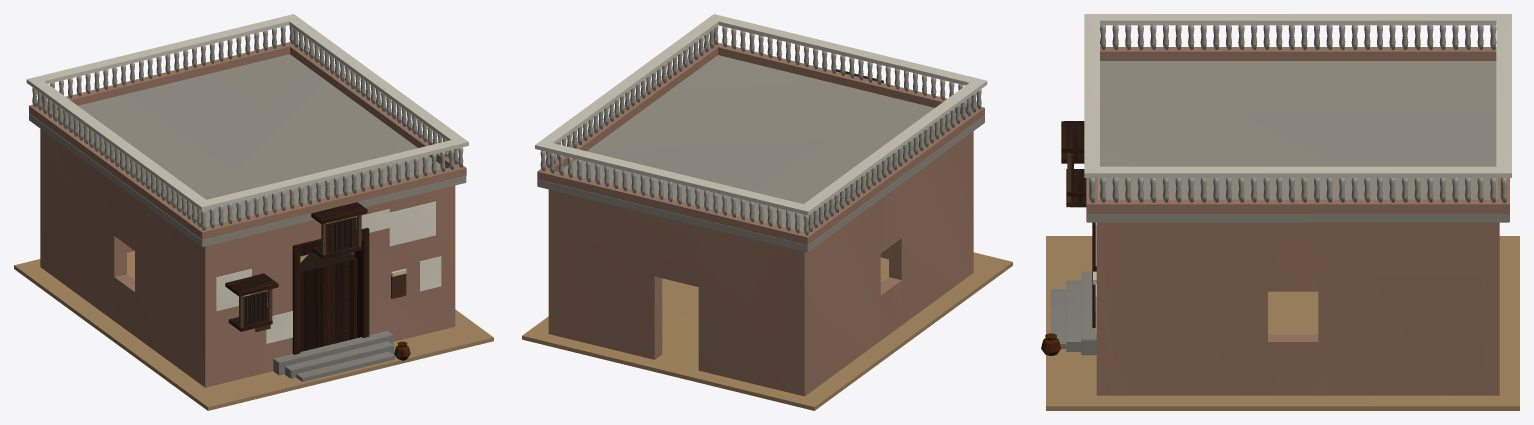
File: house_kit_f.glb
The picture shows the model from 3 angles, left to right: view 1: azimuth 30°, elevation 25°; view 2: azimuth 150°, elevation 25°; view 3: azimuth 270°, elevation 25°; orthographic projection. The views are drawn at different scales.
Parts seen in each view (by area): view 1: hb_main, hb_brick, hb_props; view 2: hb_brick, hb_main; view 3: hb_main, hb_brick, hb_props.
Part boxes in pixels (box(x1,y1,x2,y2)): hb_main: box(14, 14, 493, 410); hb_brick: box(29, 42, 466, 387); hb_props: box(225, 202, 369, 354); hb_brick: box(537, 42, 984, 396); hb_main: box(522, 14, 1012, 410); hb_main: box(1046, 14, 1519, 410); hb_brick: box(1086, 47, 1509, 395); hb_props: box(1061, 121, 1096, 327).
Bounding box in the file's own units: 8 × 5.08 × 9.5.
